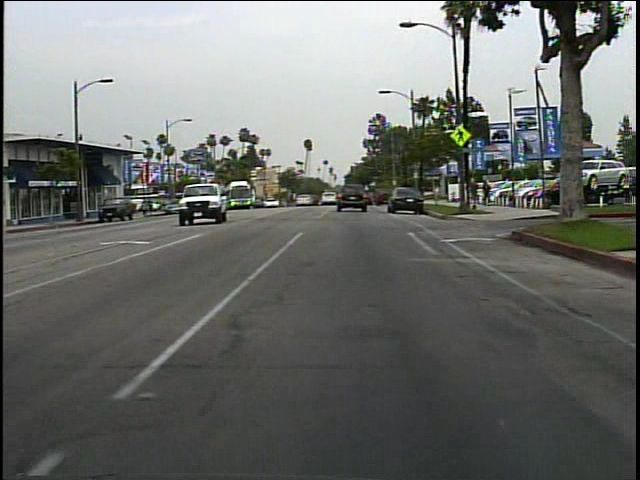person: (559, 174, 583, 224)
